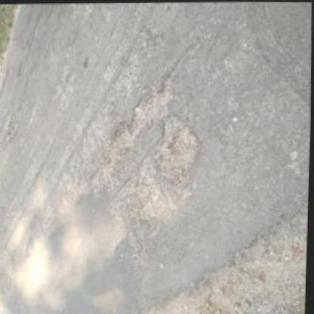Hueco: (145, 202, 308, 314), (107, 70, 178, 156), (152, 112, 203, 178), (2, 114, 18, 146)
